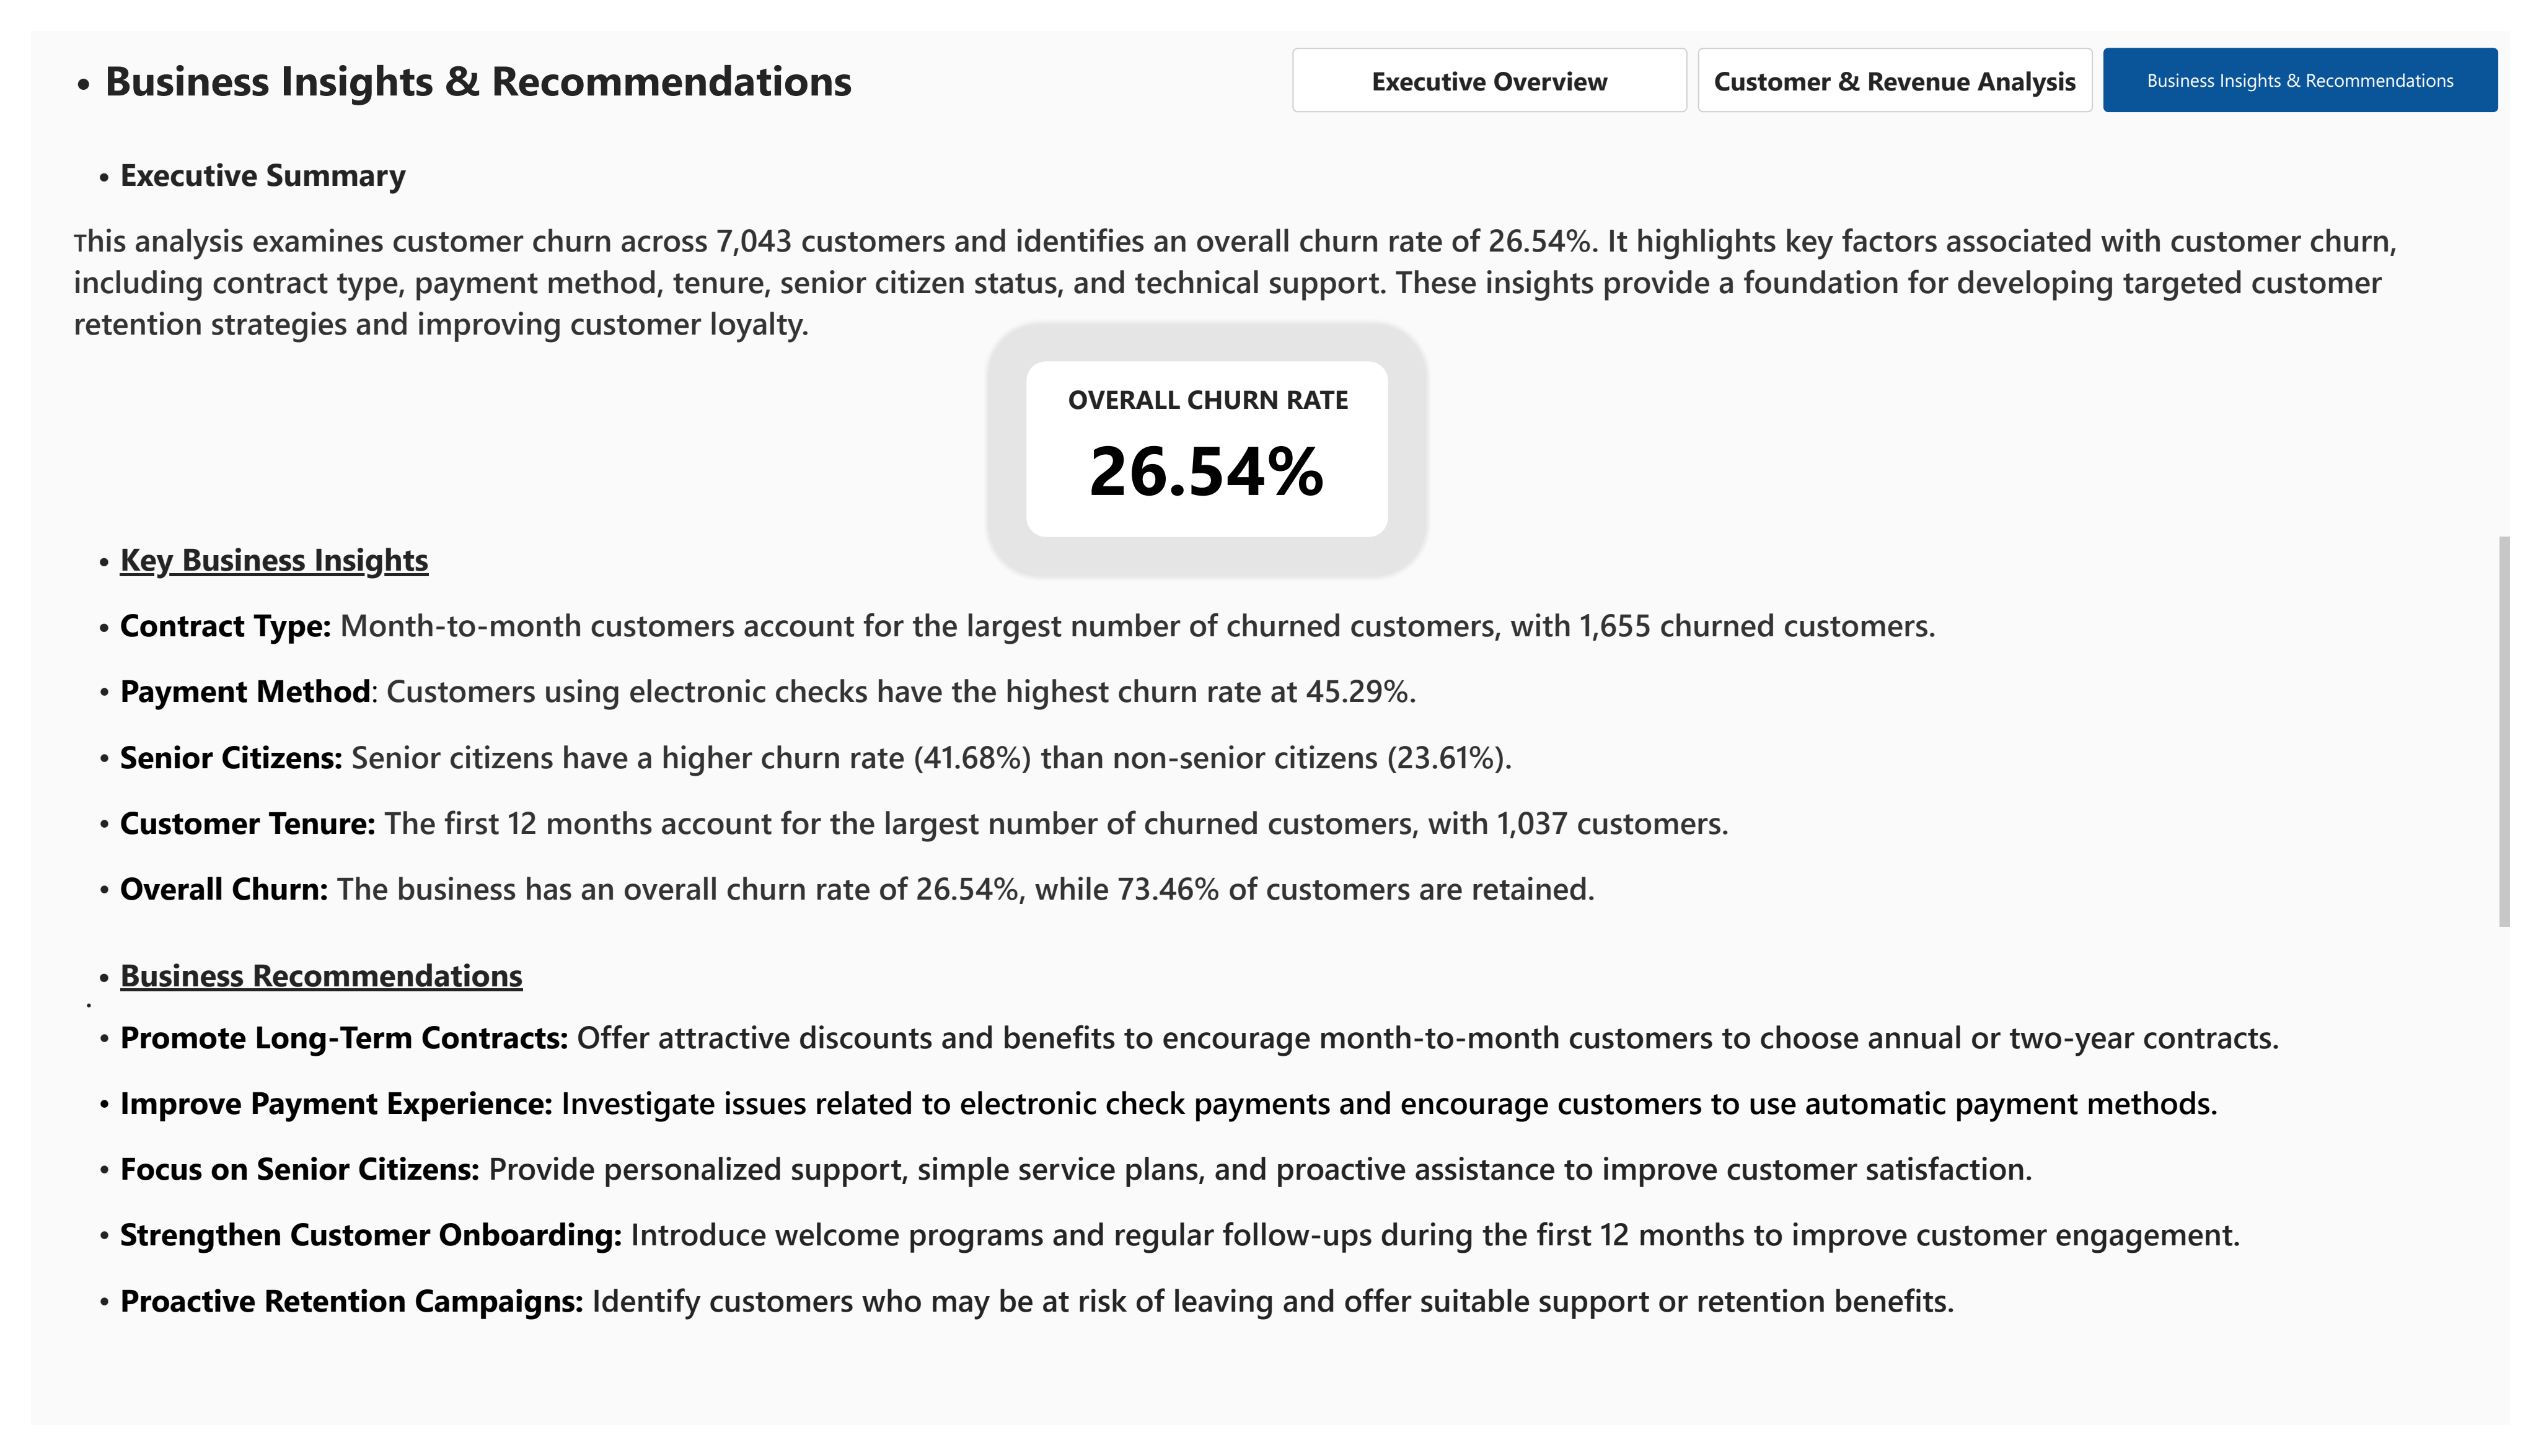

The page's visual inventory and layout, read from the dashboard file:
{"tool":"powerbi","page":{"name":"Business Insights & Recommendations","canvas":[1920,1080],"ordinal":2},"visuals":[{"type":"textbox","box":[9.2,14.7,682.8,79.1],"z":0},{"type":"textbox","box":[33.1,93.9,1886.5,171.2],"z":1000},{"type":"textbox","box":[33.1,392,1886.5,303.7],"z":2000},{"type":"textbox","box":[33.1,714.1,1886.5,346],"z":3000},{"type":"pageNavigator","box":[977.3,12.9,935,49.7],"z":4000},{"type":"card","title":"OVERALL CHURN RATE","fields":{"Values":["All_Measures.Churn Rate"]},"box":[771.2,255.8,279.8,136.2],"z":4001}]}

Visuals, with their boxes on the page's 1920x1080 design canvas (x1, y1, x2, y2). These are canvas units, not pixel positions in the 2541x1456 screenshot, which may show the page scaled, cropped or inside an application window:
textbox: Rect(9, 15, 692, 94)
textbox: Rect(33, 94, 1920, 265)
textbox: Rect(33, 392, 1920, 696)
textbox: Rect(33, 714, 1920, 1060)
pageNavigator: Rect(977, 13, 1912, 63)
"OVERALL CHURN RATE" card: Rect(771, 256, 1051, 392)
